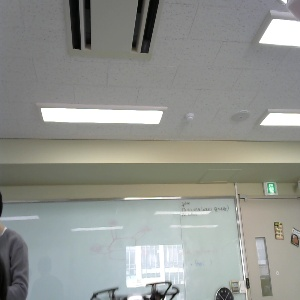Drone: (102, 272, 190, 300)
